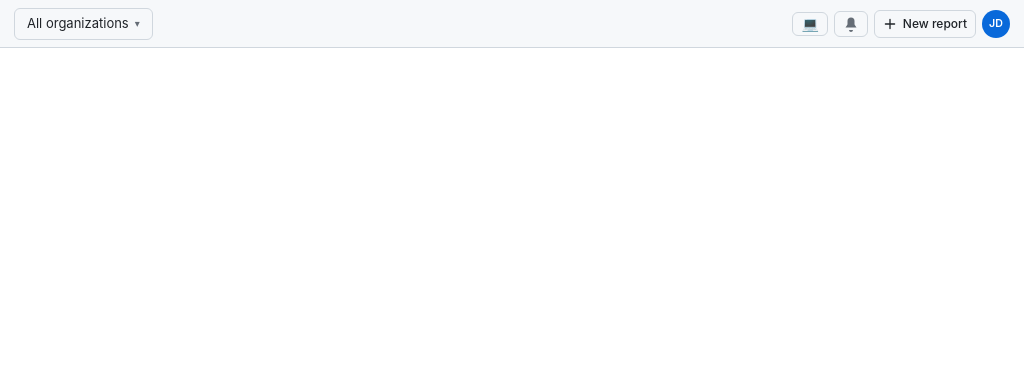
TopBar › filters orgs in dropdown when typing
Click the button with aria-label "Select organization".
click(83, 24)  # box [14,8,153,40]
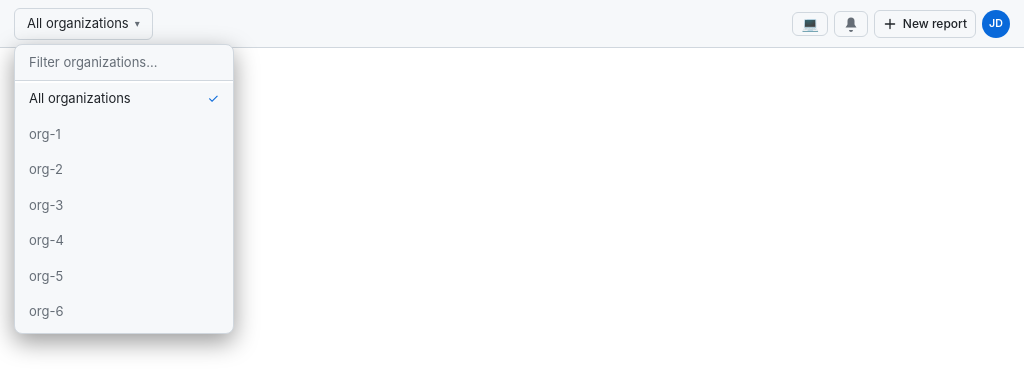
Type "org-1" into the field labelled "Filter organizations".
click(124, 63); type("org-1")  # box [15,44,233,81]
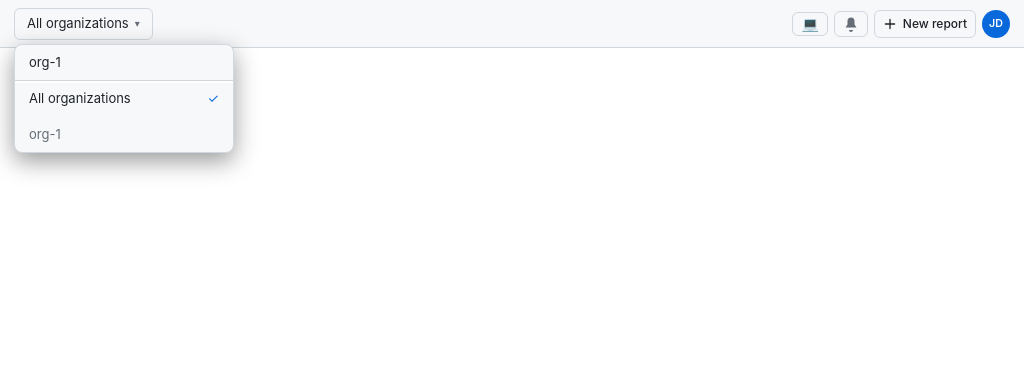
Expected: the option "org-1" is shown, [15,116,233,152]
Expected: the option "org-3" is gone
